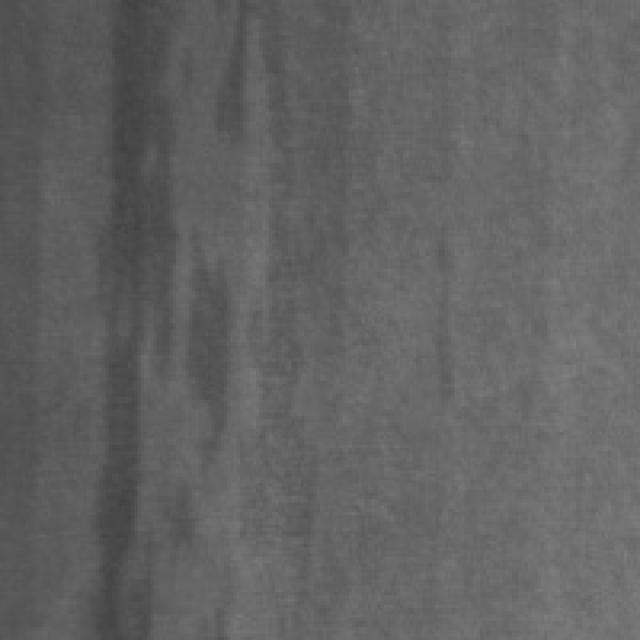inclusion: (86, 0, 230, 630), (419, 221, 467, 413)
